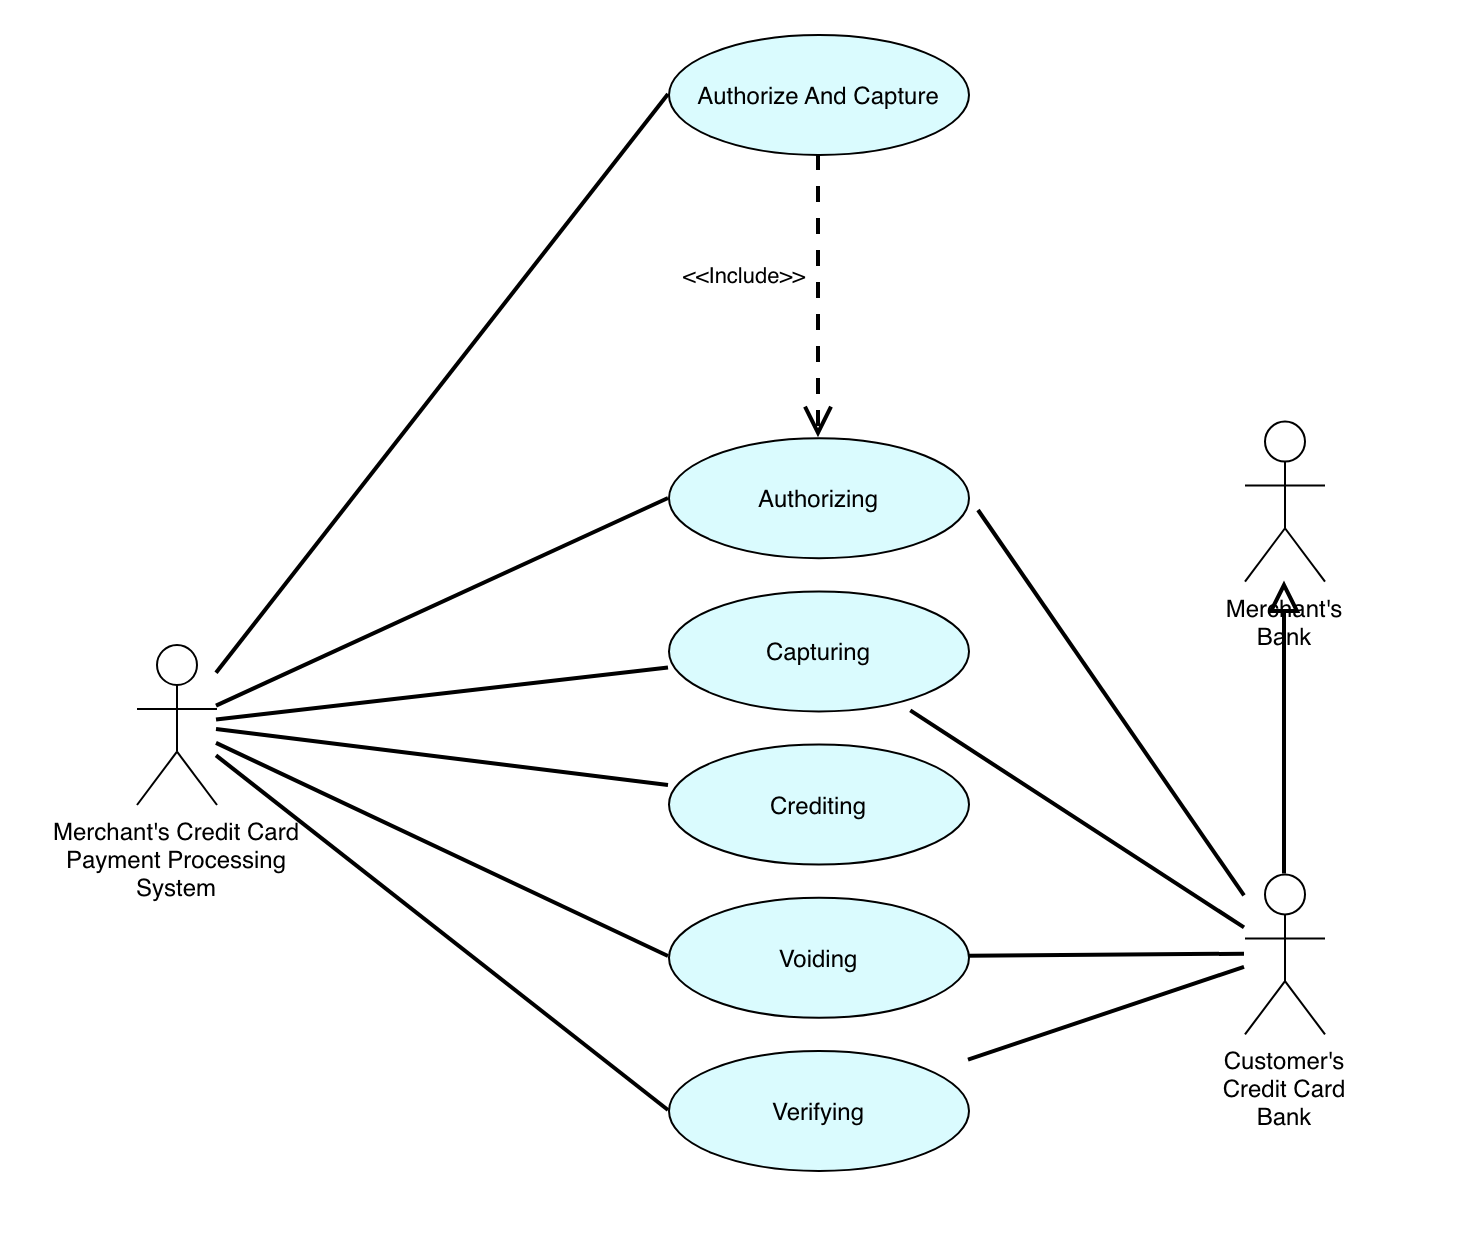actor: (124, 633, 219, 810), (1236, 419, 1332, 591), (1247, 871, 1331, 1042)
association: (221, 86, 671, 676), (216, 749, 667, 1105), (975, 499, 1246, 903), (216, 736, 667, 959), (218, 490, 671, 707), (908, 705, 1248, 931), (209, 722, 668, 793), (961, 964, 1252, 1069), (221, 663, 673, 722), (1262, 579, 1305, 874), (801, 155, 840, 437), (973, 927, 1246, 966)
text: (46, 813, 301, 909), (1210, 1049, 1360, 1135), (692, 76, 944, 115), (1217, 589, 1356, 649), (760, 779, 886, 830), (761, 936, 894, 981), (753, 482, 890, 520), (752, 1093, 874, 1135), (753, 632, 881, 672), (671, 256, 805, 292)
use_case: (665, 741, 971, 871), (664, 895, 968, 1021), (664, 435, 973, 559), (668, 1049, 968, 1175), (669, 32, 971, 158), (664, 590, 973, 712)
